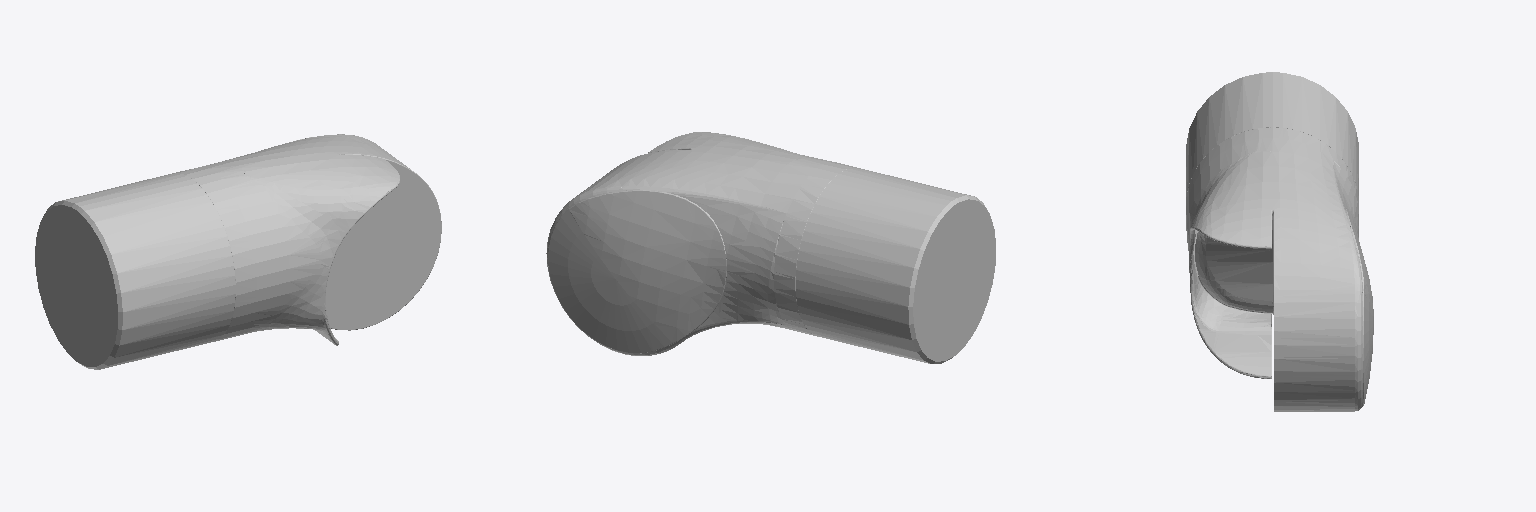
File: arm_4.obj
3 views of the same model, side by side, from view 1: azimuth 30°, elevation 25°; view 2: azimuth 150°, elevation 25°; view 3: azimuth 270°, elevation 25° (orthographic).
Visible parts, largest first — view 1: arm_4; view 2: arm_4; view 3: arm_4.
Part boxes in pixels (bbox=[...]): arm_4: bbox=[35, 134, 441, 369]; arm_4: bbox=[546, 132, 995, 363]; arm_4: bbox=[1186, 72, 1373, 411].
Bounding box in the file's own units: 0.2435 × 0.122 × 0.1083.